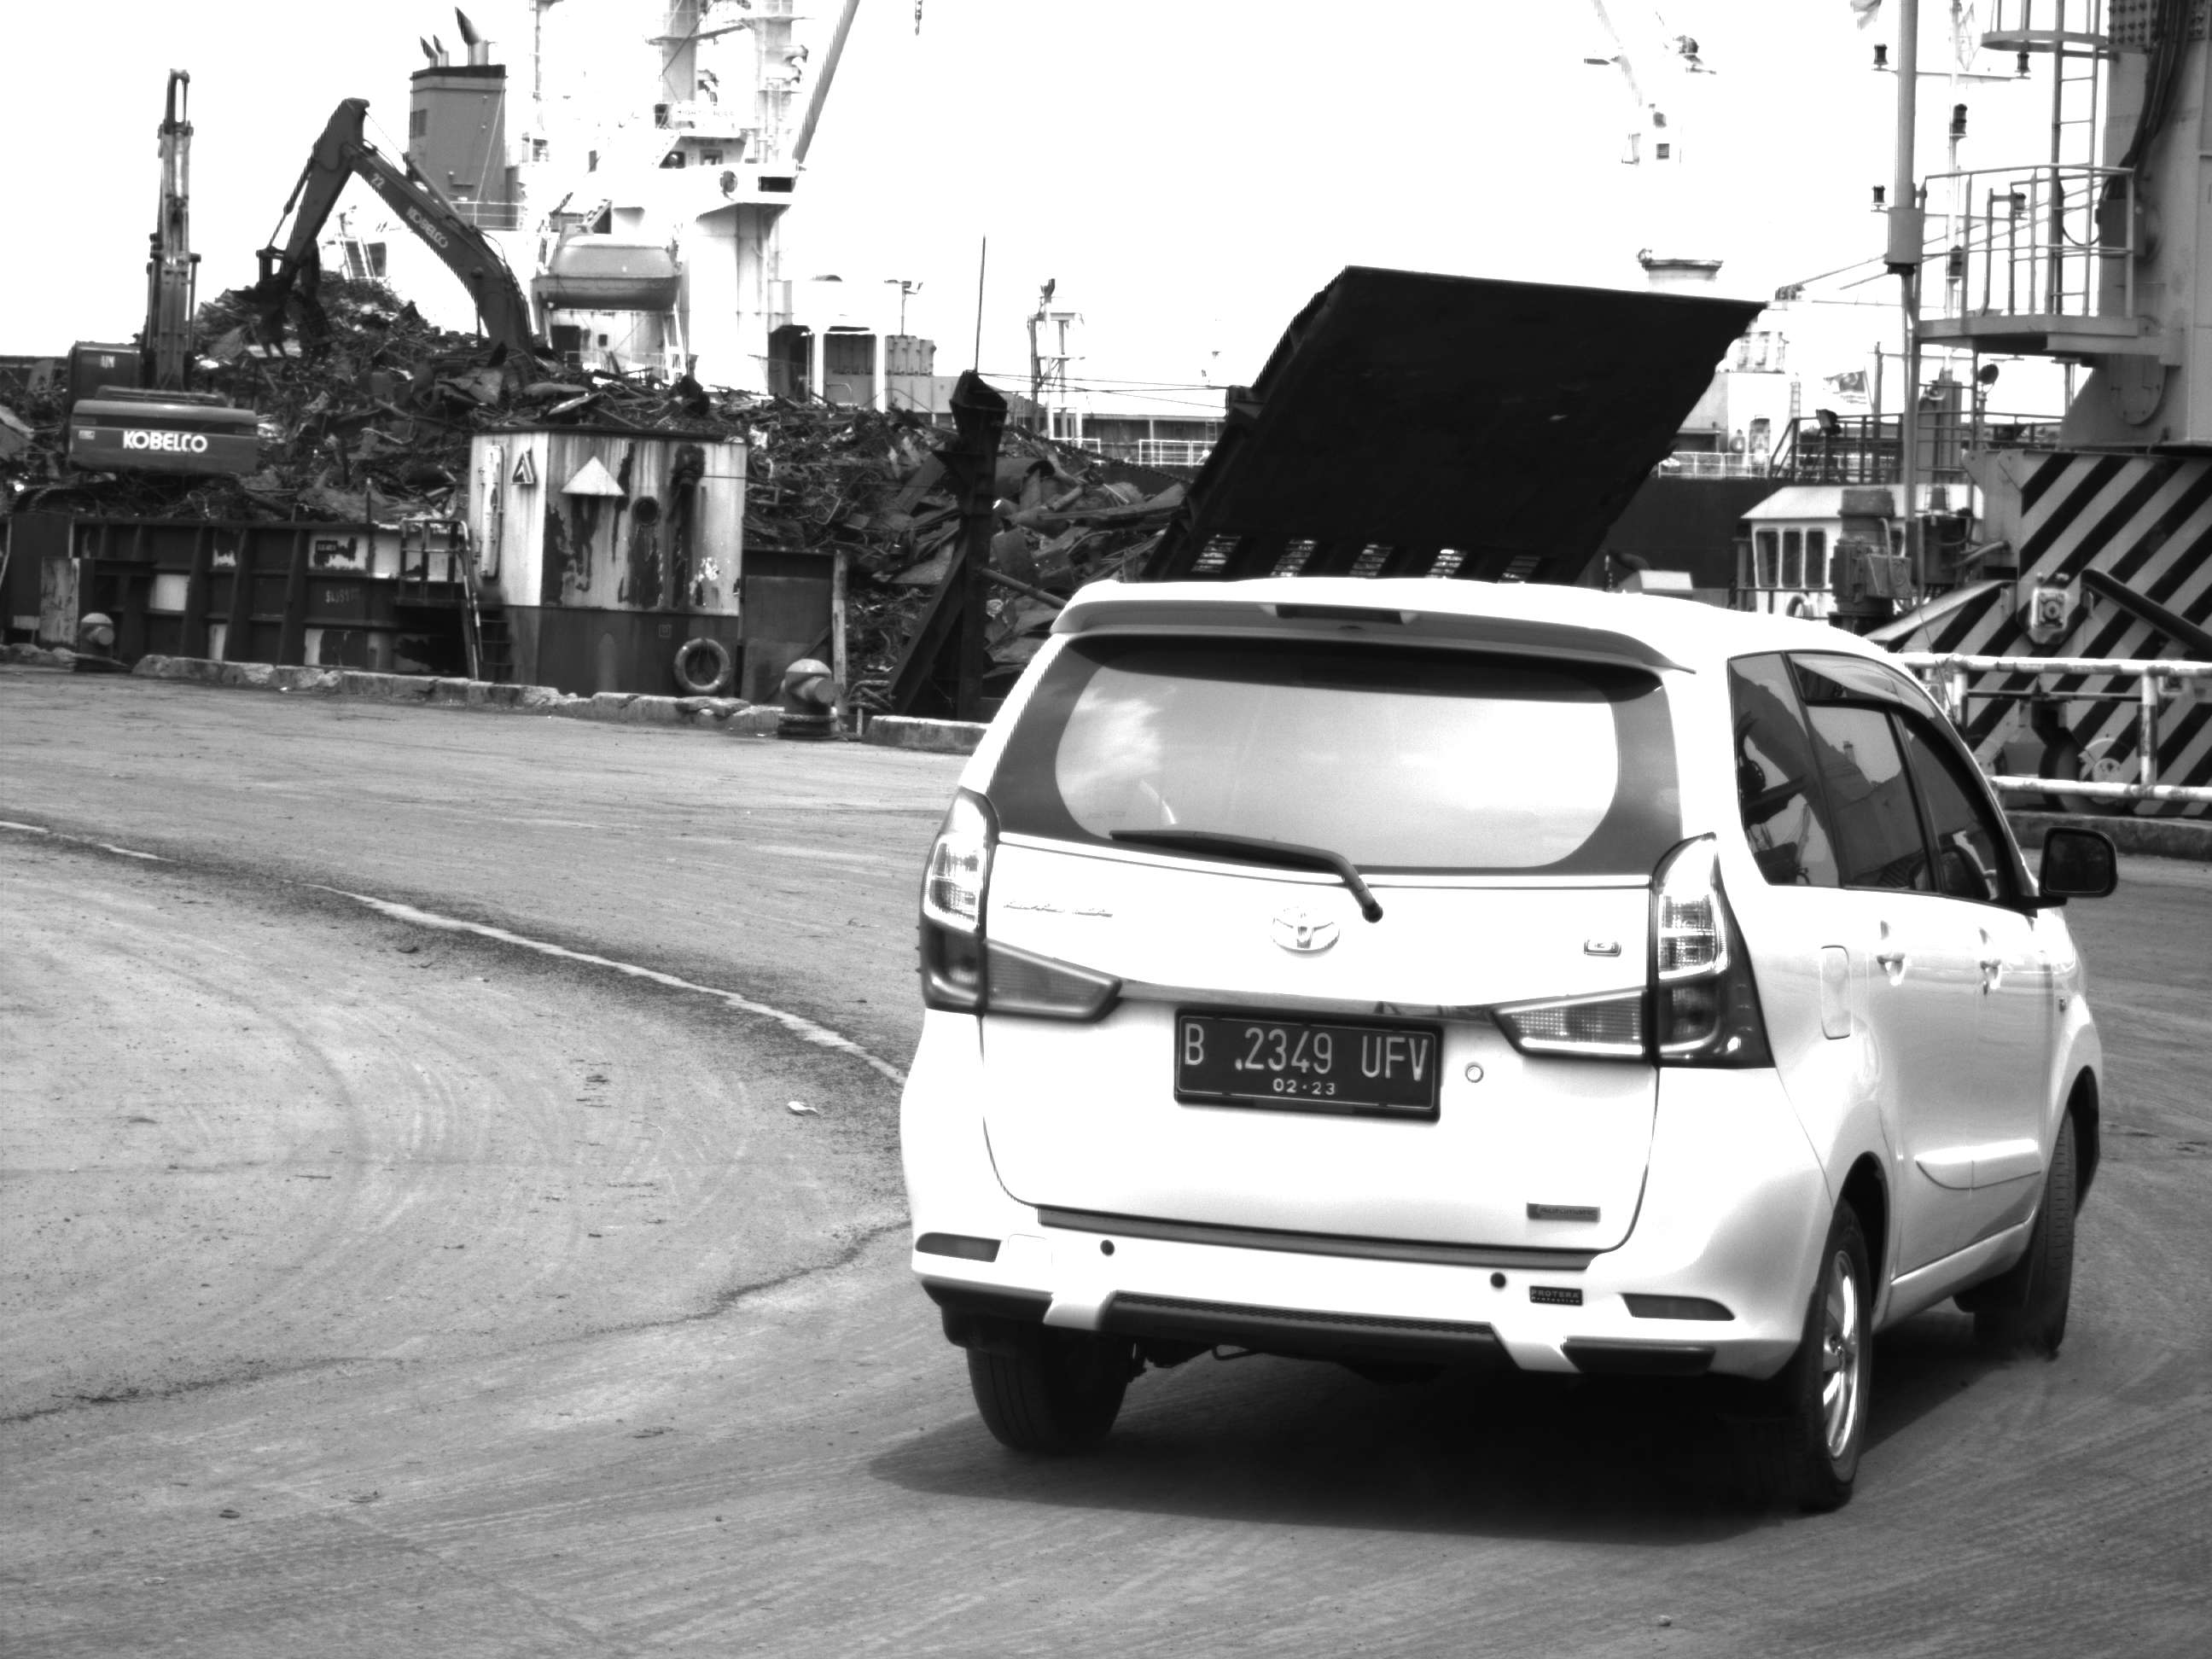day_small_rear: (914, 599, 1889, 1481)
plate: (1163, 1006, 1442, 1126)
